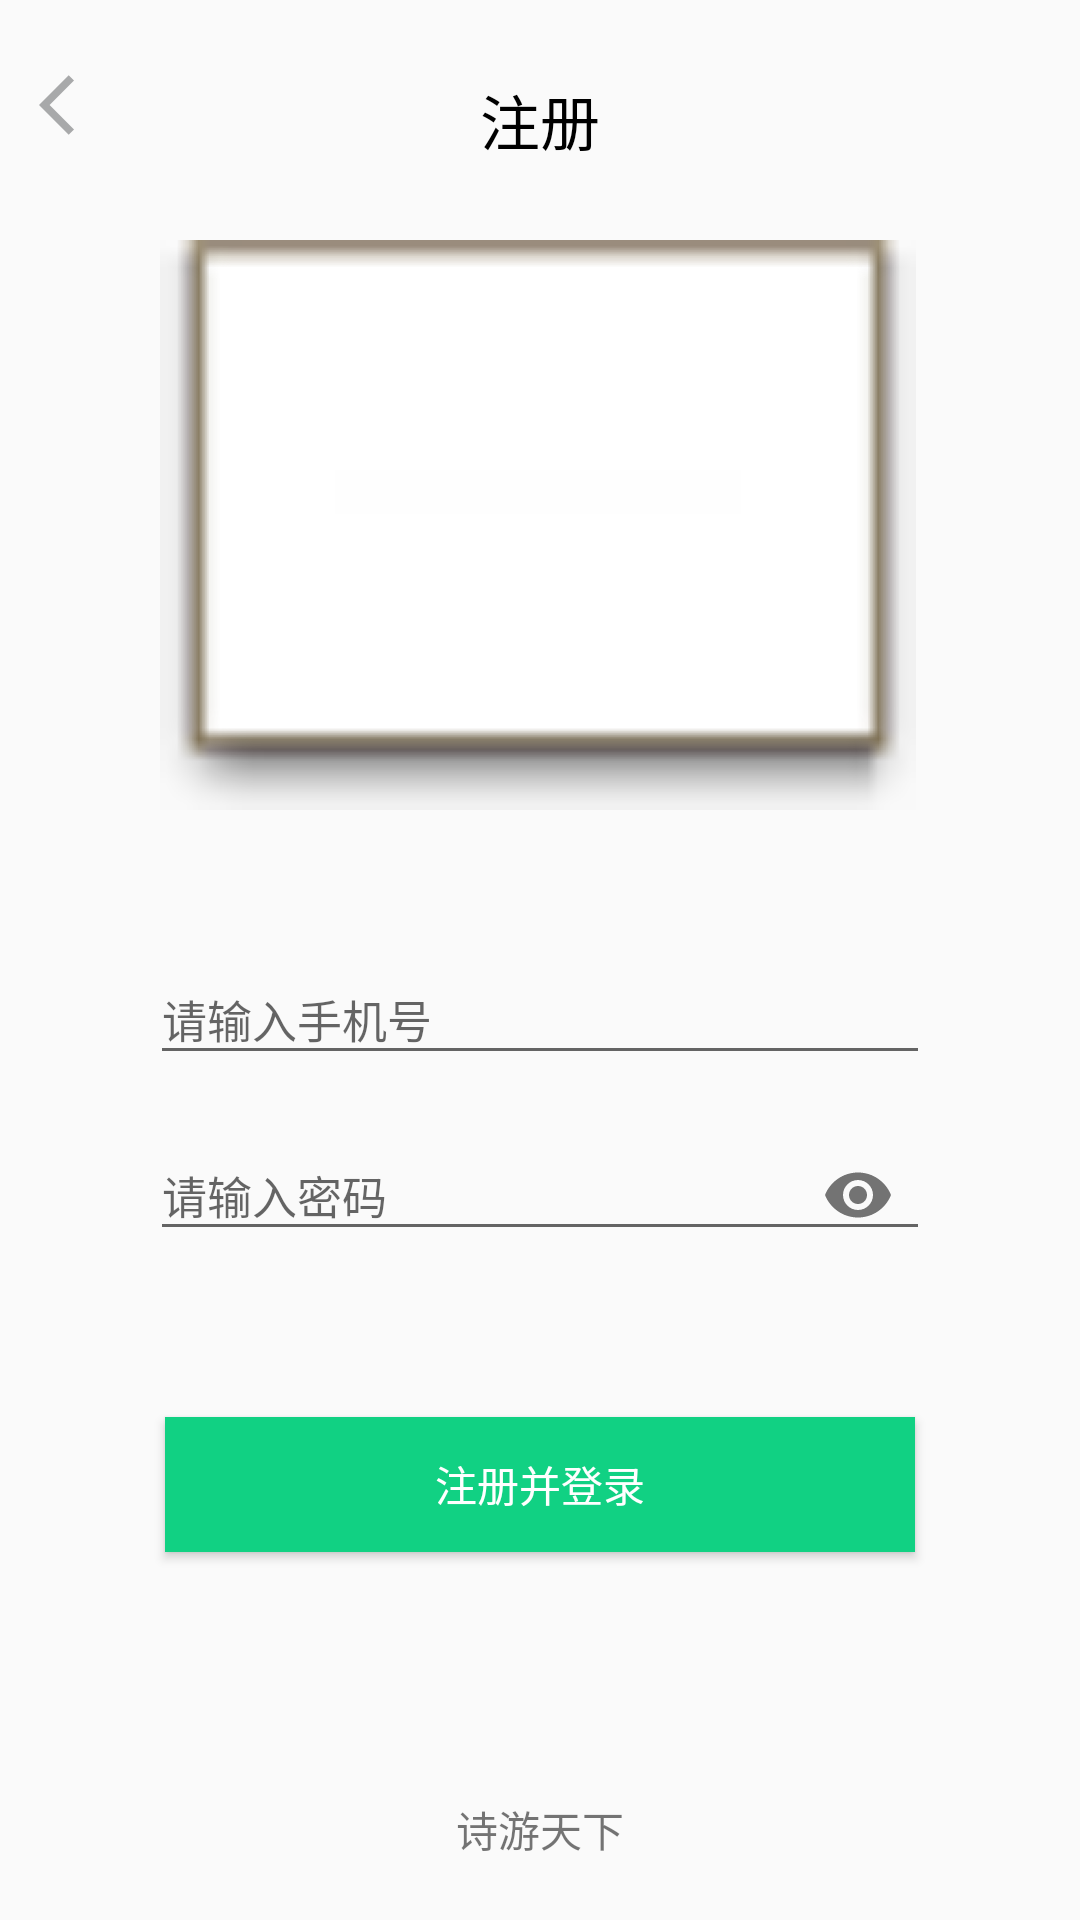

Screen size 1080px×1920px. Icon name, then its box in pixels as (x1, y1, x2, y2):
arrow back: (39, 75, 74, 135)
